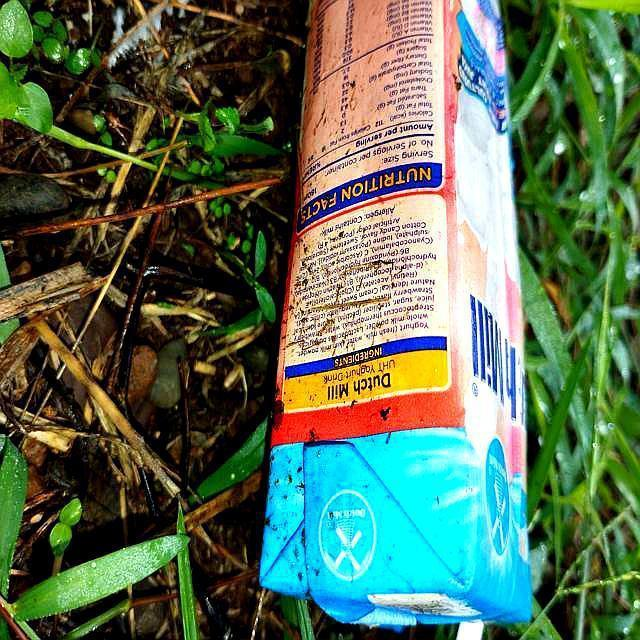Biodegradable: (259, 1, 539, 633)
